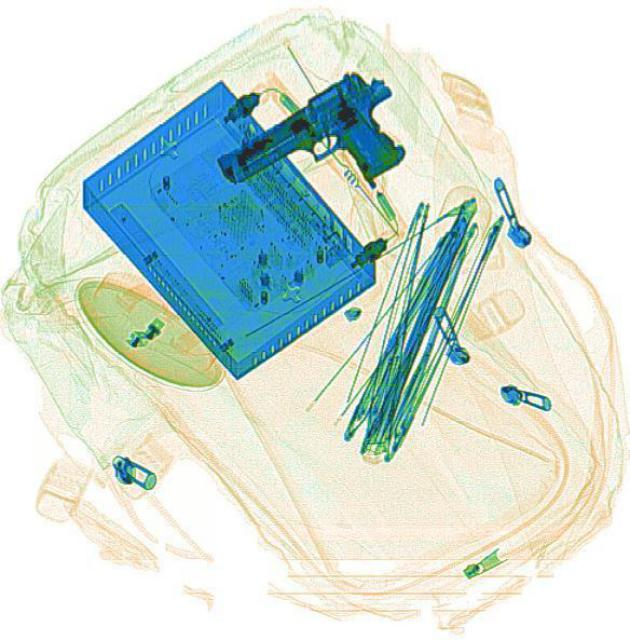Gun: (207, 58, 427, 240)
